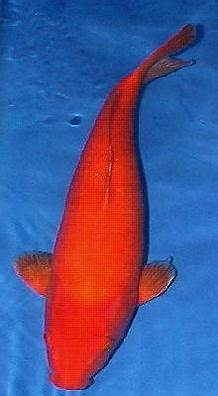red: (12, 22, 200, 390)
